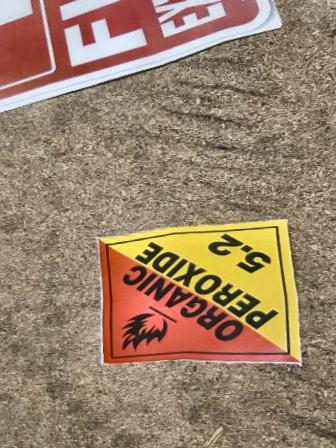organic-peroxide: (96, 217, 306, 373)
